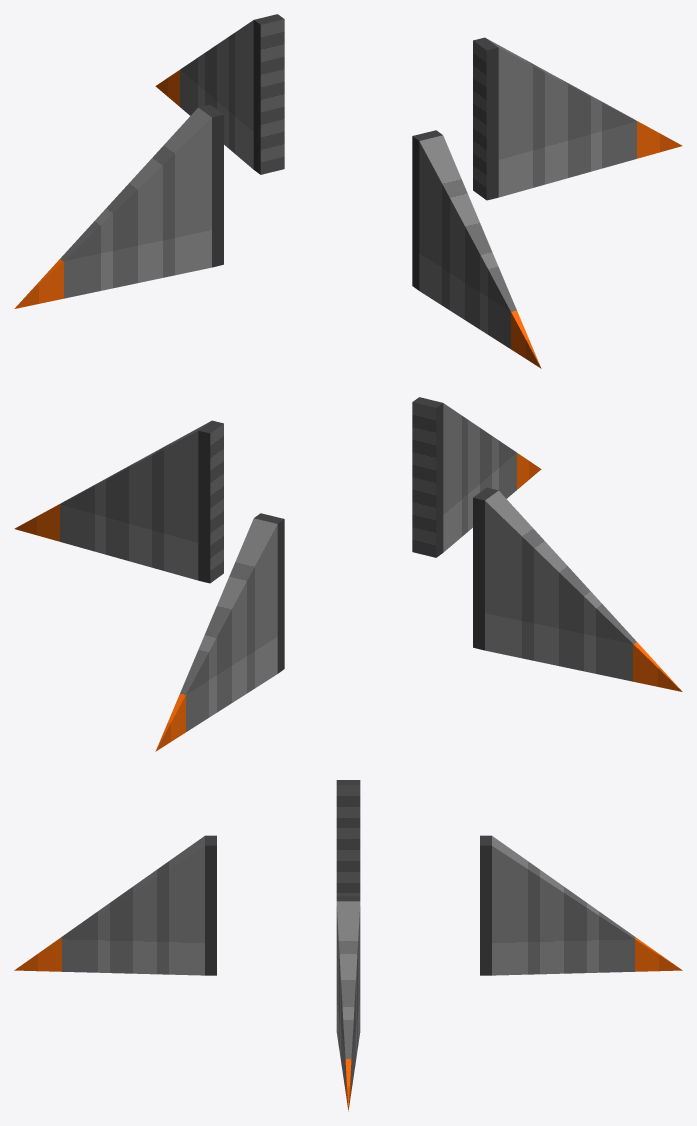
File: mp_s_15_soyuz.obj
The picture shows the model from 3 angles, top to bottom: view 1: azimuth 30°, elevation 25°; view 2: azimuth 150°, elevation 25°; view 3: azimuth 270°, elevation 25°; orthographic projection. The views are drawn at different scales.
Parts seen in each view (by area): view 1: Cube.001_Cube.002; view 2: Cube.001_Cube.002; view 3: Cube.001_Cube.002.
Part boxes in pixels (x1,y1,x2,y2): Cube.001_Cube.002: [14, 14, 682, 368]; Cube.001_Cube.002: [14, 397, 682, 751]; Cube.001_Cube.002: [14, 780, 682, 1111].
Bounding box in the file's own units: 3.5 × 0.75 × 3.5.
